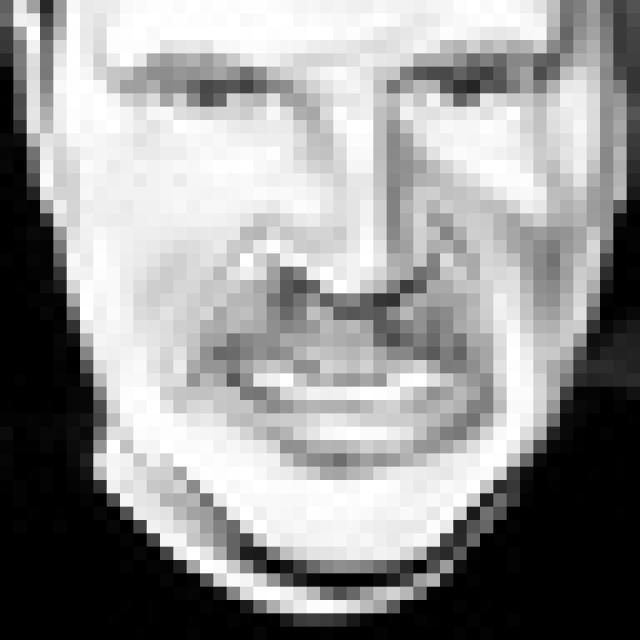angry: (93, 33, 558, 473)
